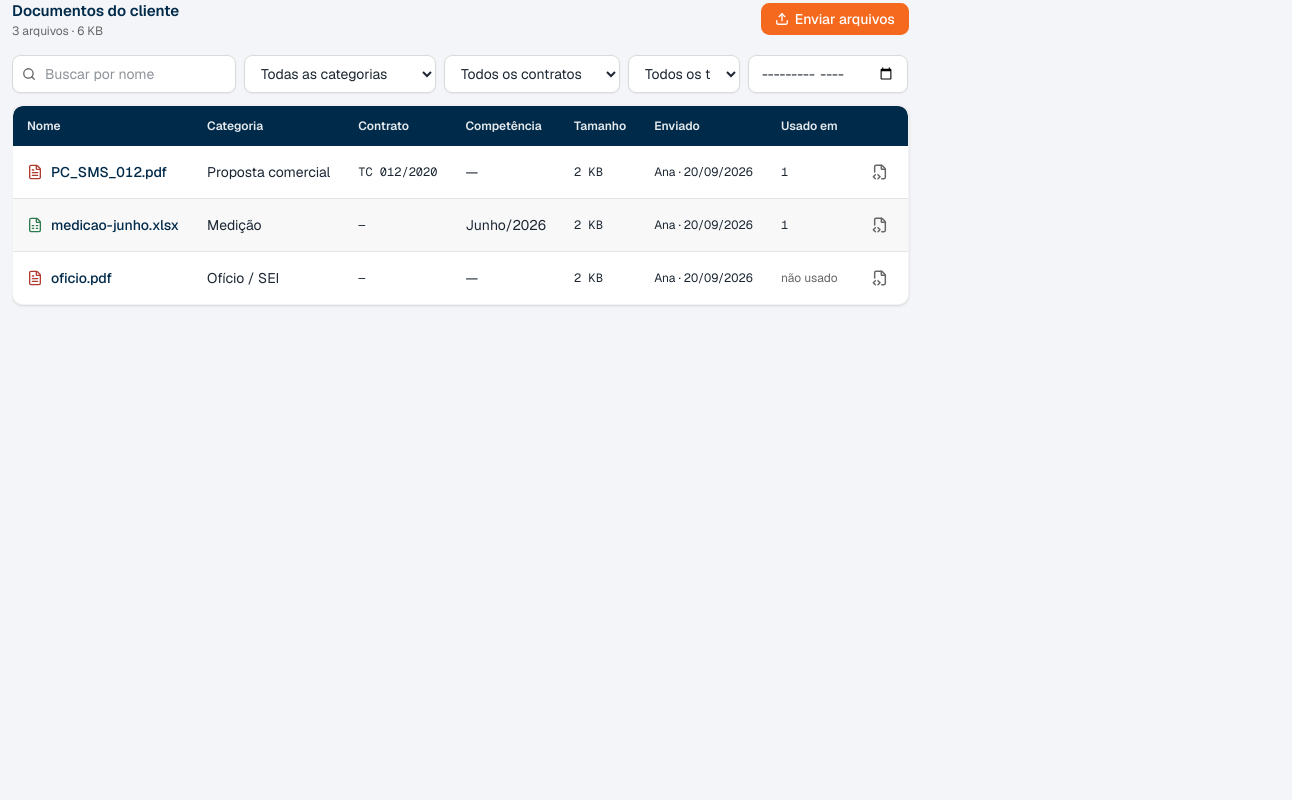
Test: AbaDocumentos › nome do arquivo é um botão focável — abre o painel também por teclado
Expected: the text "PC_SMS_012.pdf" is shown, [51,162,167,182]
Click the button "PC_SMS_012.pdf" at coordinates (97, 172), box [27,162,167,182]
(page scrolled)
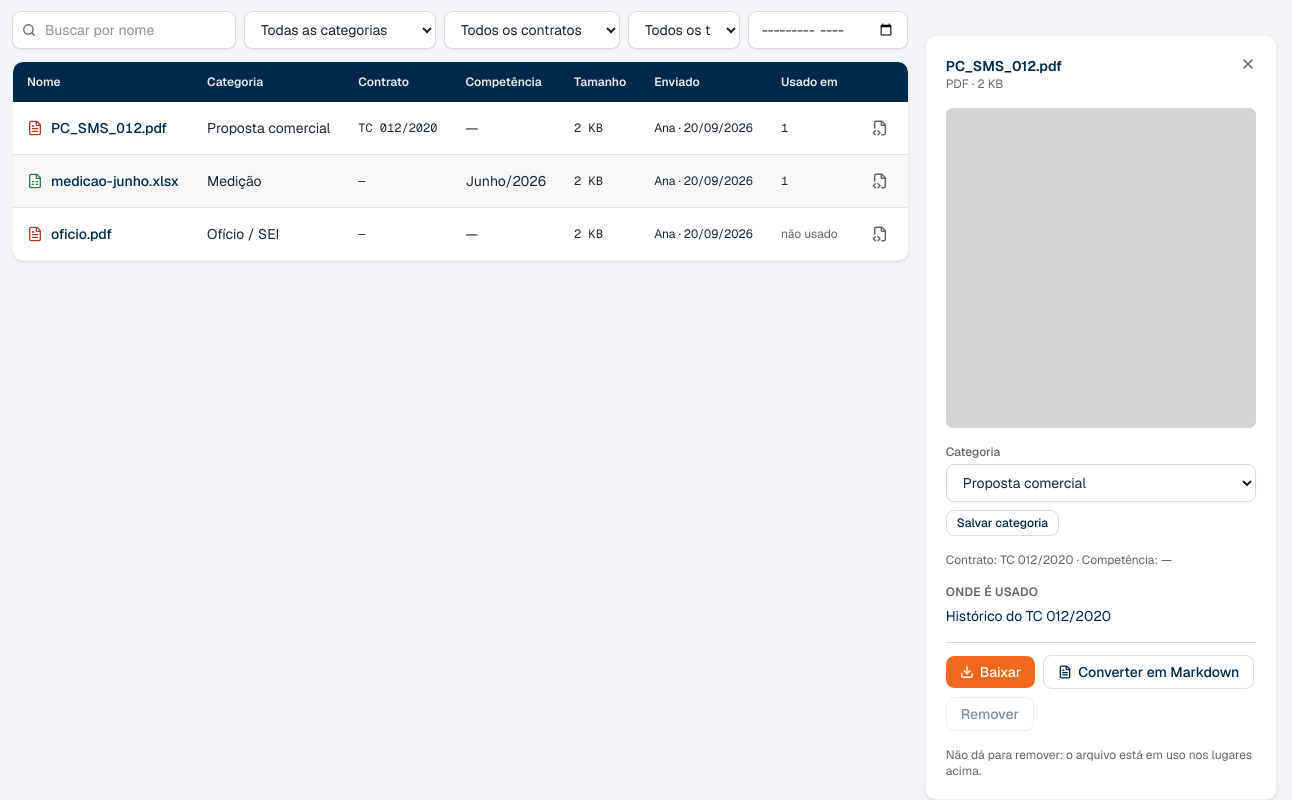
Now the element "PC_SMS_012.pdf" is shown, box [925,35,1277,799]
